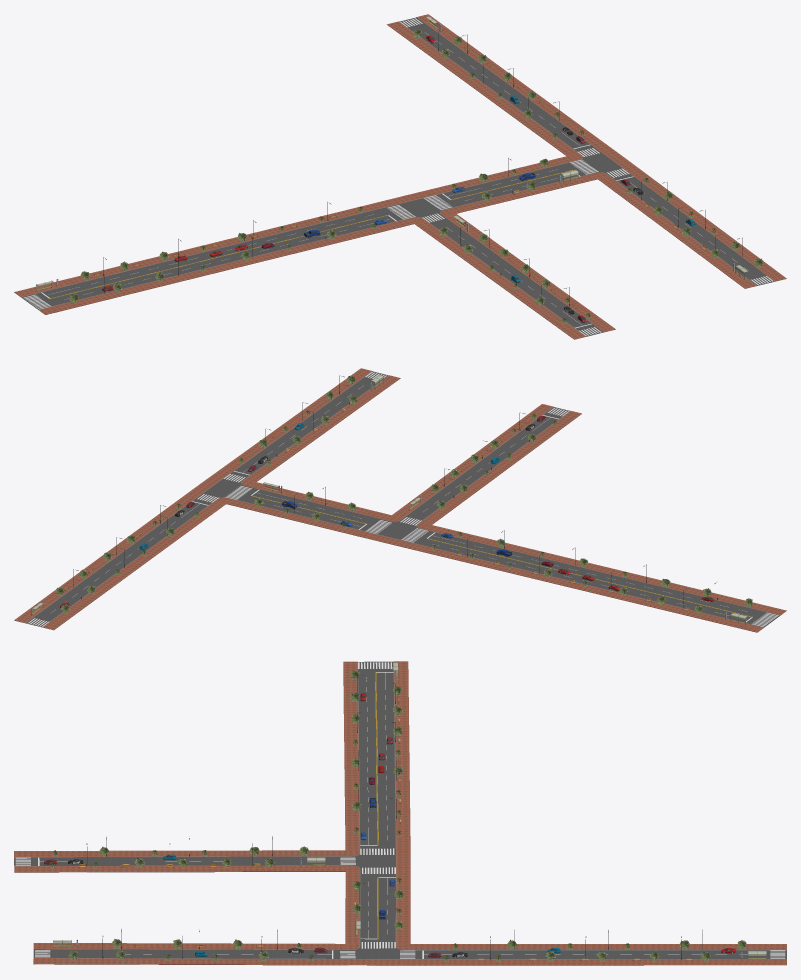
3 renders of one model, top to bottom at view 1: azimuth 30°, elevation 25°; view 2: azimuth 150°, elevation 25°; view 3: azimuth 270°, elevation 25°, orthographic. The views are drawn at different scales.
Parts seen in each view (by area): view 1: Road_Bed_Sidewalk_3_m, Road_Bed_m, Road_Bed_Sidewalk_2_m, Road_Bed_white_m, Road_Bed_Crossing_m; view 2: Road_Bed_Sidewalk_3_m, Road_Bed_m, Road_Bed_Sidewalk_2_m, Road_Bed_white_m, Road_Bed_Crossing_m; view 3: Road_Bed_Sidewalk_3_m, Road_Bed_m, Road_Bed_Sidewalk_2_m, Road_Bed_white_m, Road_Bed_Crossing_m.
Part boxes in pixels (bbox=[...]): Road_Bed_Sidewalk_3_m: bbox=[14, 14, 786, 339]; Road_Bed_m: bbox=[21, 17, 774, 336]; Road_Bed_Sidewalk_2_m: bbox=[21, 17, 774, 336]; Road_Bed_white_m: bbox=[23, 18, 773, 335]; Road_Bed_Crossing_m: bbox=[400, 153, 621, 217]; Road_Bed_Sidewalk_3_m: bbox=[14, 368, 786, 632]; Road_Bed_m: bbox=[26, 371, 779, 627]; Road_Bed_Sidewalk_2_m: bbox=[25, 371, 779, 627]; Road_Bed_white_m: bbox=[28, 372, 778, 626]; Road_Bed_Crossing_m: bbox=[204, 479, 416, 539]; Road_Bed_Sidewalk_3_m: bbox=[14, 661, 786, 965]; Road_Bed_m: bbox=[14, 661, 786, 958]; Road_Bed_Sidewalk_2_m: bbox=[14, 661, 786, 961]; Road_Bed_white_m: bbox=[15, 662, 785, 958]; Road_Bed_Crossing_m: bbox=[356, 855, 398, 958].
Bounding box in the file's own units: 243 × 7.62 × 261.
